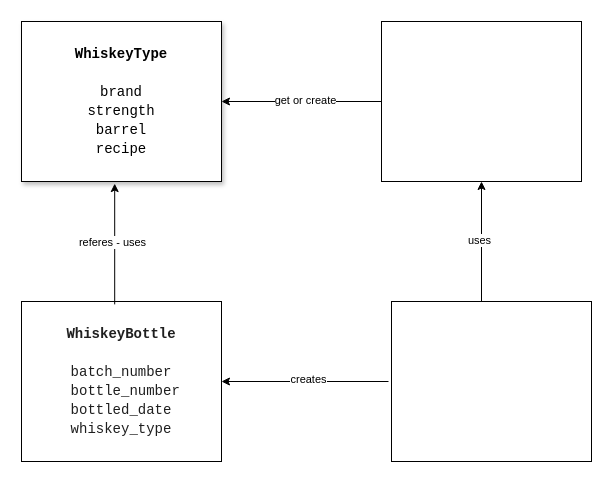
Image size: 609x479. Some labels were removed from this diagram. Each missing label, with the centre of its shape:
"Distillery factory bottles [] produce_bottle() show_all_bottles()" belongs at [491,381].
"WhiskeyFactory _types {} get_wiskey_type()" belongs at [481,101].
